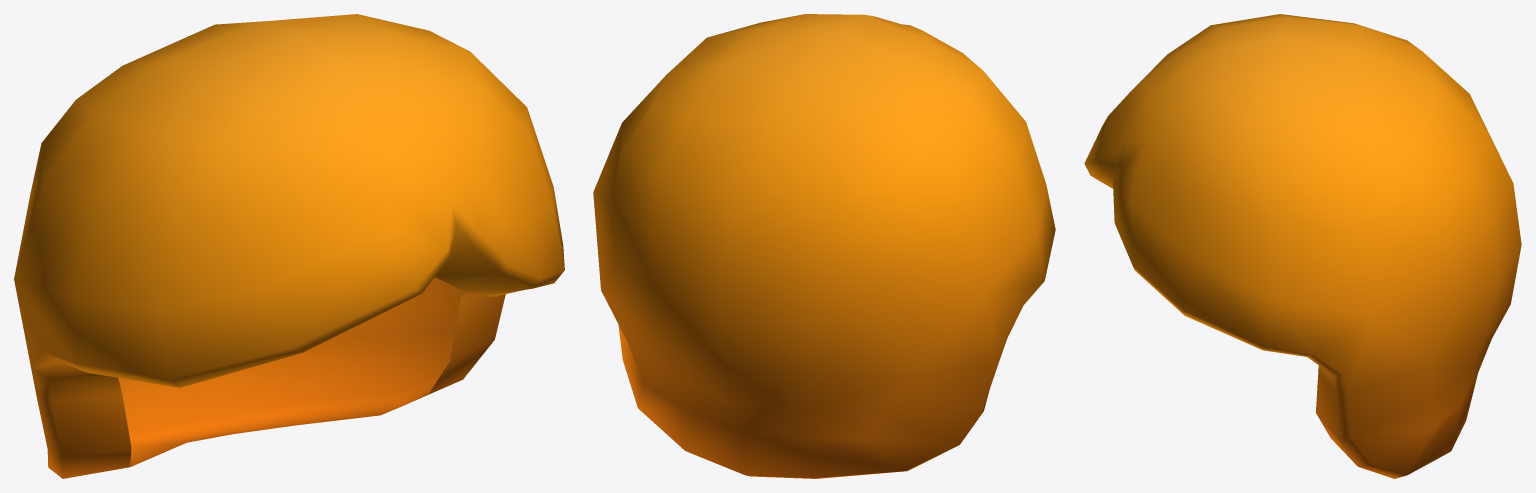
File: Hairstyle_Male_03.glb
The picture shows the model from 3 angles, left to right: view 1: azimuth 30°, elevation 25°; view 2: azimuth 150°, elevation 25°; view 3: azimuth 270°, elevation 25°; orthographic projection. The views are drawn at different scales.
Parts seen in each view (by area): view 1: Hairstyle_Male_03; view 2: Hairstyle_Male_03; view 3: Hairstyle_Male_03.
Part boxes in pixels (x1=…): Hairstyle_Male_03: x1=14, y1=14, x2=564, y2=478; Hairstyle_Male_03: x1=593, y1=14, x2=1055, y2=478; Hairstyle_Male_03: x1=1084, y1=14, x2=1521, y2=478.
Bounding box in the file's own units: 0.6145 × 0.5553 × 0.5694.
Materials: 1 (1 with a texture image).
